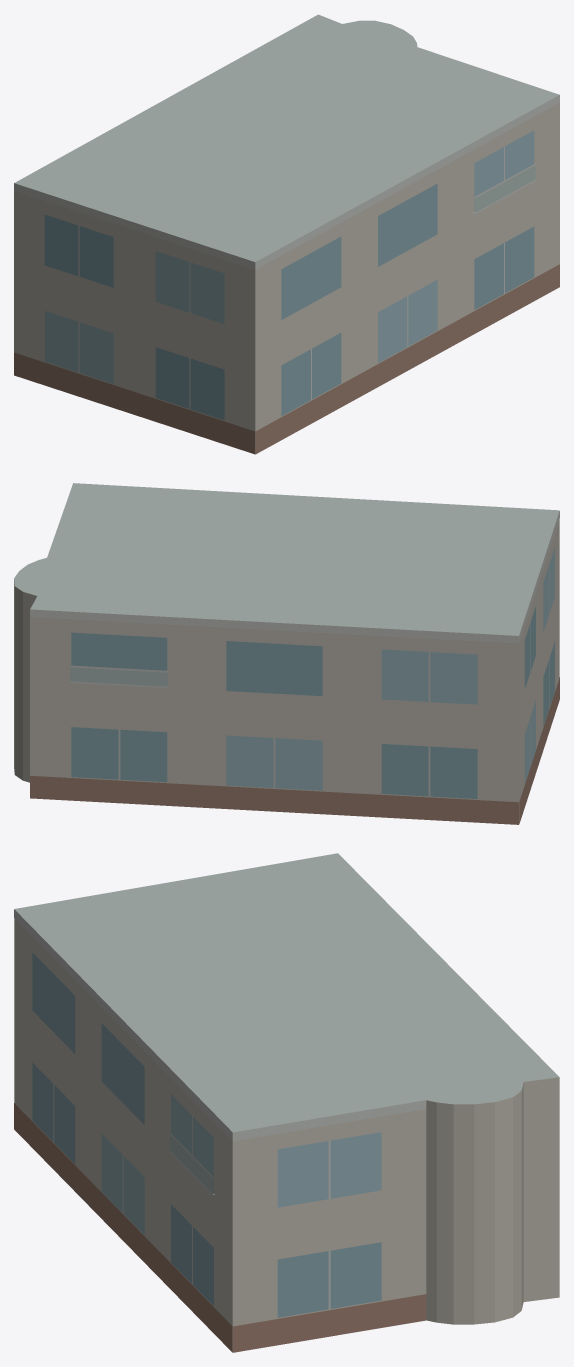
The model's file is survey-upis-32851350.glb.
3 views of the same model, one above another, from view 1: azimuth 30°, elevation 25°; view 2: azimuth 150°, elevation 25°; view 3: azimuth 270°, elevation 25° (orthographic). The views are drawn at different scales.
Parts seen in each view (by area): view 1: survey-upis-32851350.tmp; view 2: survey-upis-32851350.tmp; view 3: survey-upis-32851350.tmp.
Part boxes in pixels (x1,y1,x2,y2): survey-upis-32851350.tmp: (14, 14, 559, 454); survey-upis-32851350.tmp: (14, 483, 559, 824); survey-upis-32851350.tmp: (14, 853, 559, 1352).
Size of the model in its own units: 16.6 by 6.1 by 13.71.
